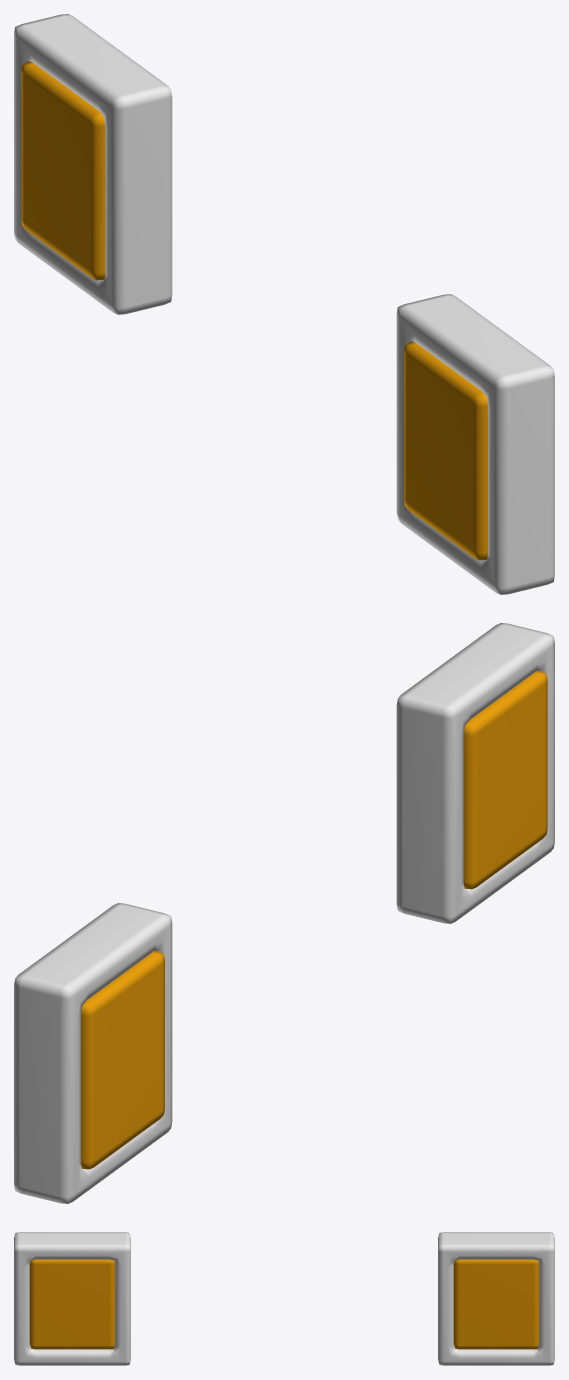
File: SM_Clay_Window_02.fbx
The picture shows the model from 3 angles, top to bottom: view 1: azimuth 30°, elevation 25°; view 2: azimuth 150°, elevation 25°; view 3: azimuth 270°, elevation 25°; orthographic projection. The views are drawn at different scales.
Parts seen in each view (by area): view 1: SM_Clay_Window_02; view 2: SM_Clay_Window_02; view 3: SM_Clay_Window_02.
Boxes of the visible parts, x1,y1,x2,y2 form: SM_Clay_Window_02: (14,14,554,594); SM_Clay_Window_02: (14,623,554,1203); SM_Clay_Window_02: (14,1232,554,1365).
Size of the model in its own units: 0.1031 by 0.3325 by 1.35.
